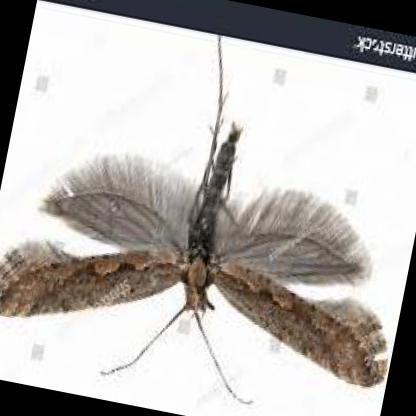plutella: (0, 28, 388, 409)
